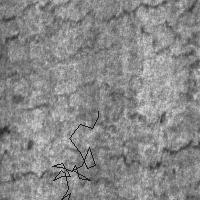crazing: (4, 1, 200, 60), (23, 19, 179, 90), (41, 109, 199, 173), (1, 73, 169, 124), (26, 111, 98, 200)
